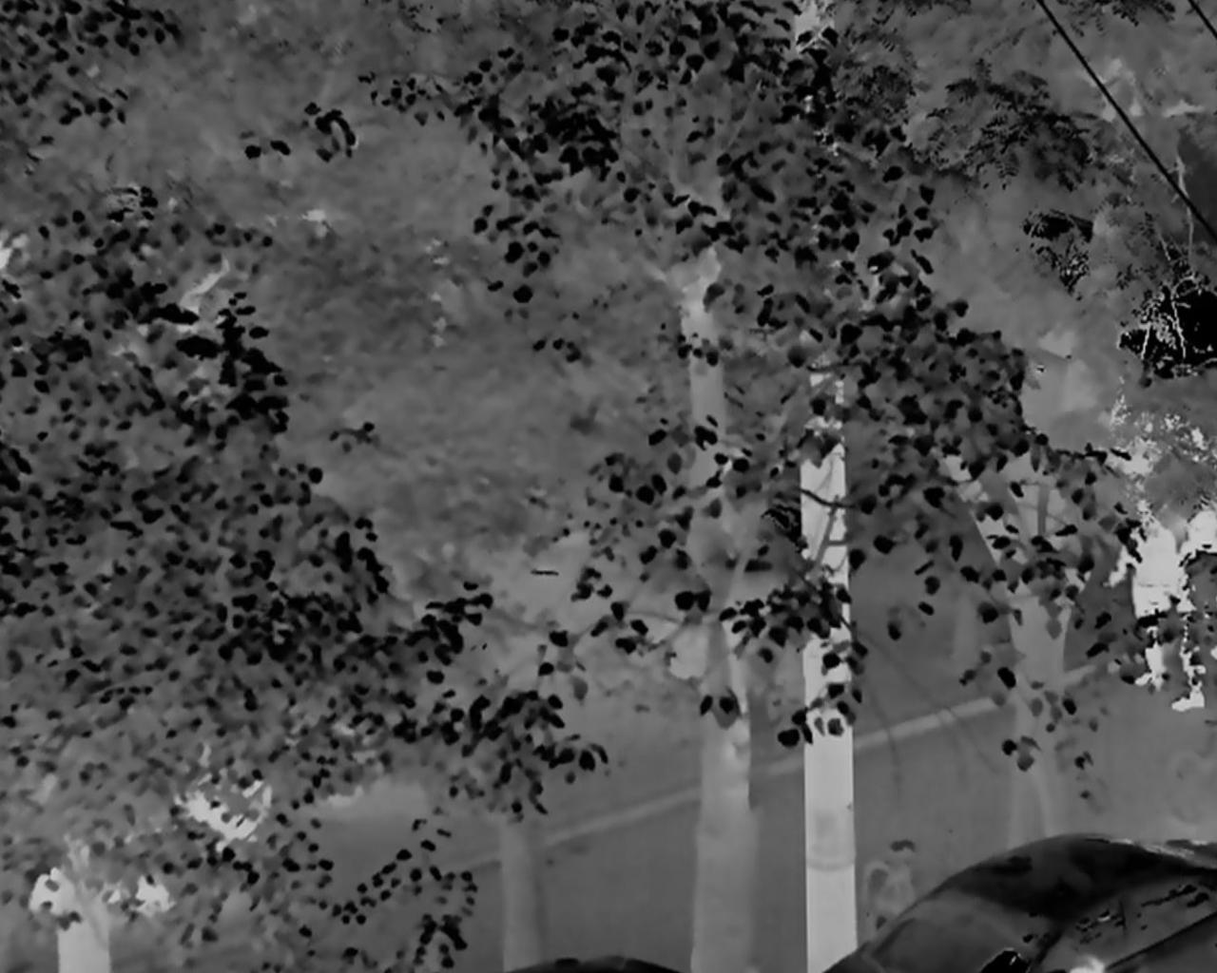person: (1117, 488, 1176, 689), (1170, 506, 1217, 716)
